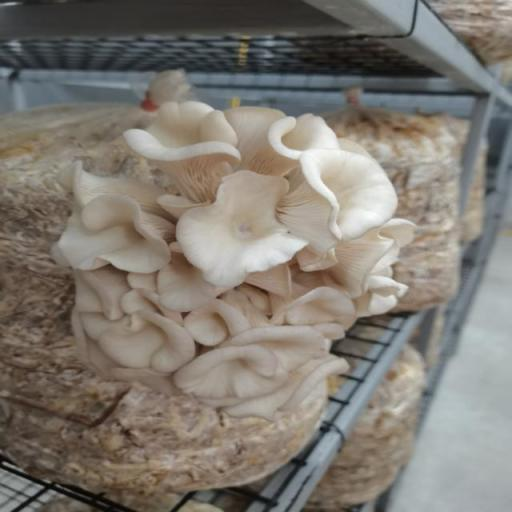White Oyster Mushroom: (61, 95, 426, 427)
